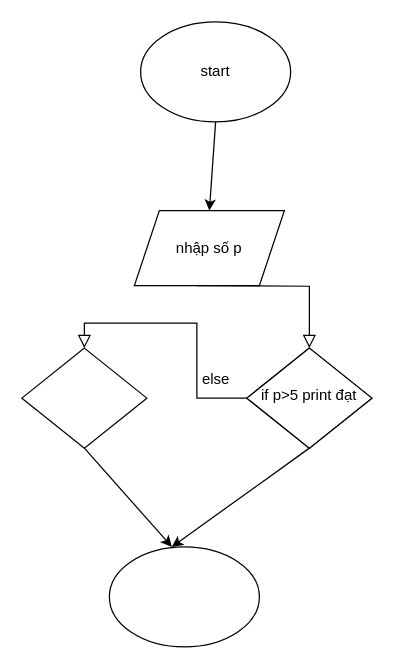
This 394x669 diagram has some shape labels left out. The centre of each missing label's shape, as x and y in pixels:
"end" belongs at (x=183, y=596).
"print không đạt" belongs at (x=84, y=397).
